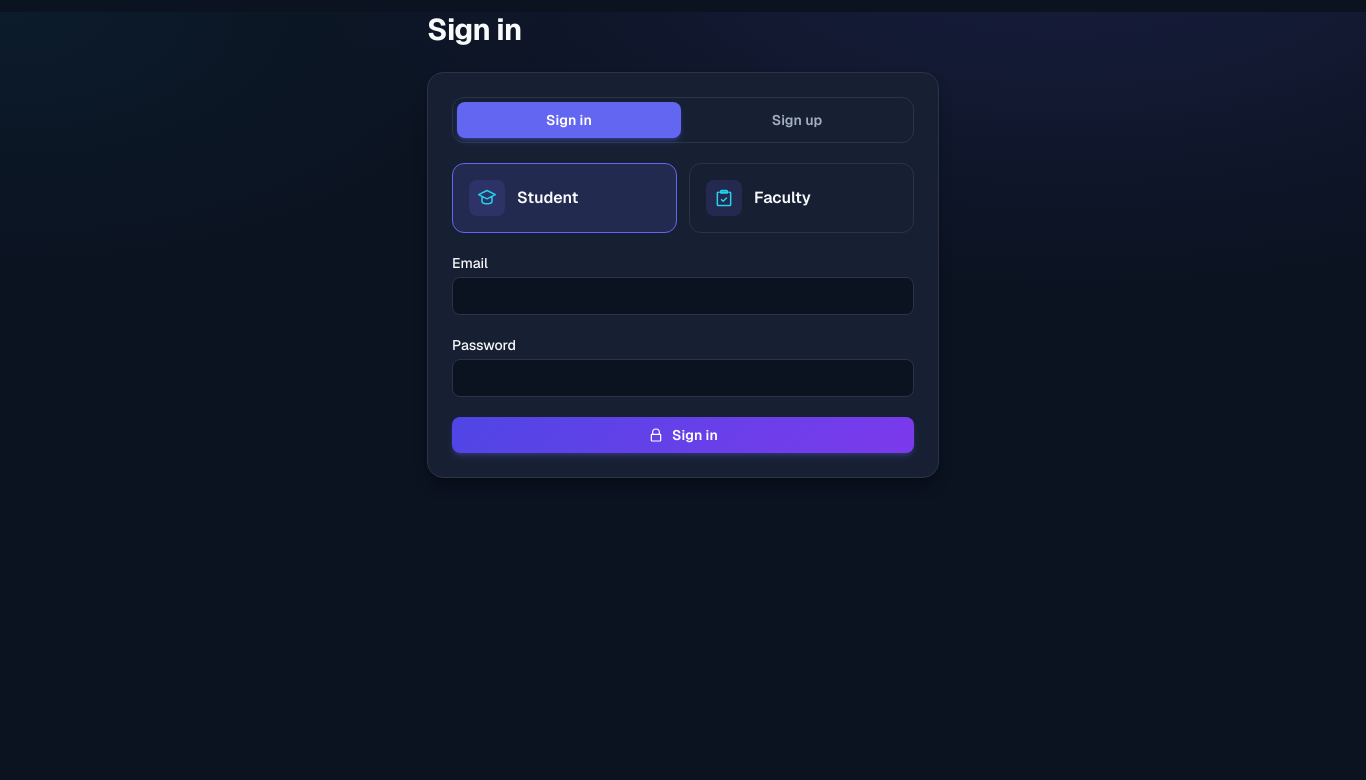
Test case: Sign in › shows a message that has no field (accounts not set up) and a network failure
The width and height of the screenshot is (1366, 780).
What coordinates should you click on to do the following:
click the button "Sign in"
I would click on:
 (683, 435)
Its box is [452,417,914,453].
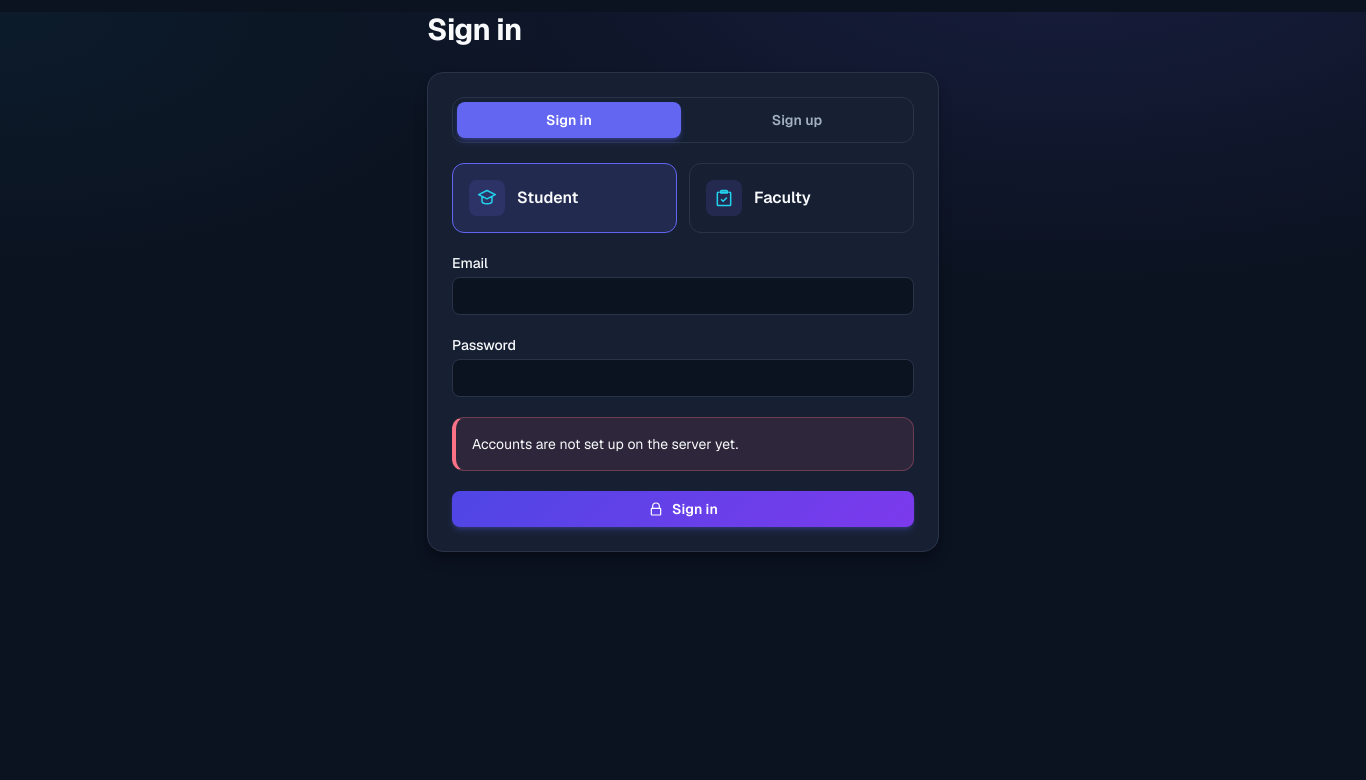
Now the message shows "Accounts are not set up", box [472,435,738,453]
What coordinates should you click on to do the following:
click the button "Sign in"
I would click on:
 (683, 509)
Its box is [452,491,914,527].
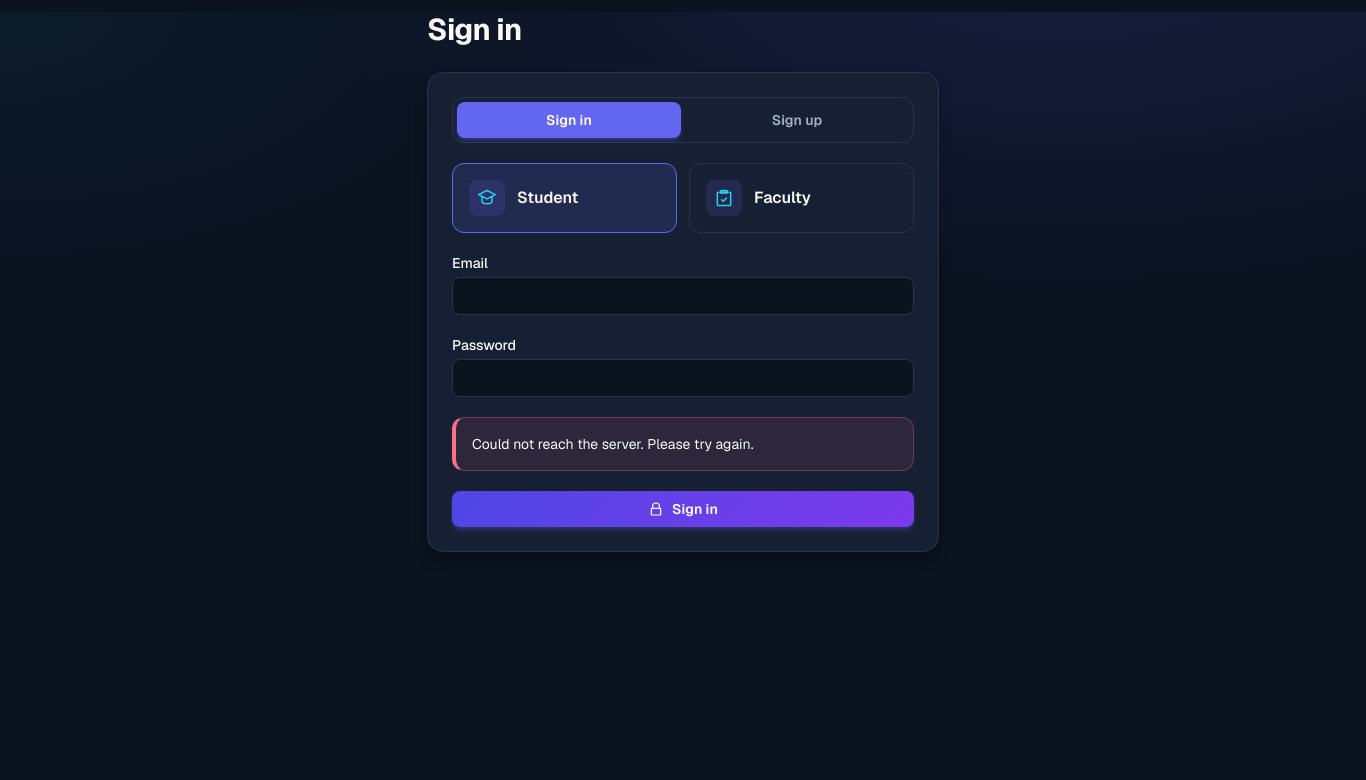
Now the text "Could not reach the server. Please try again." is shown, box [452,417,914,471]
